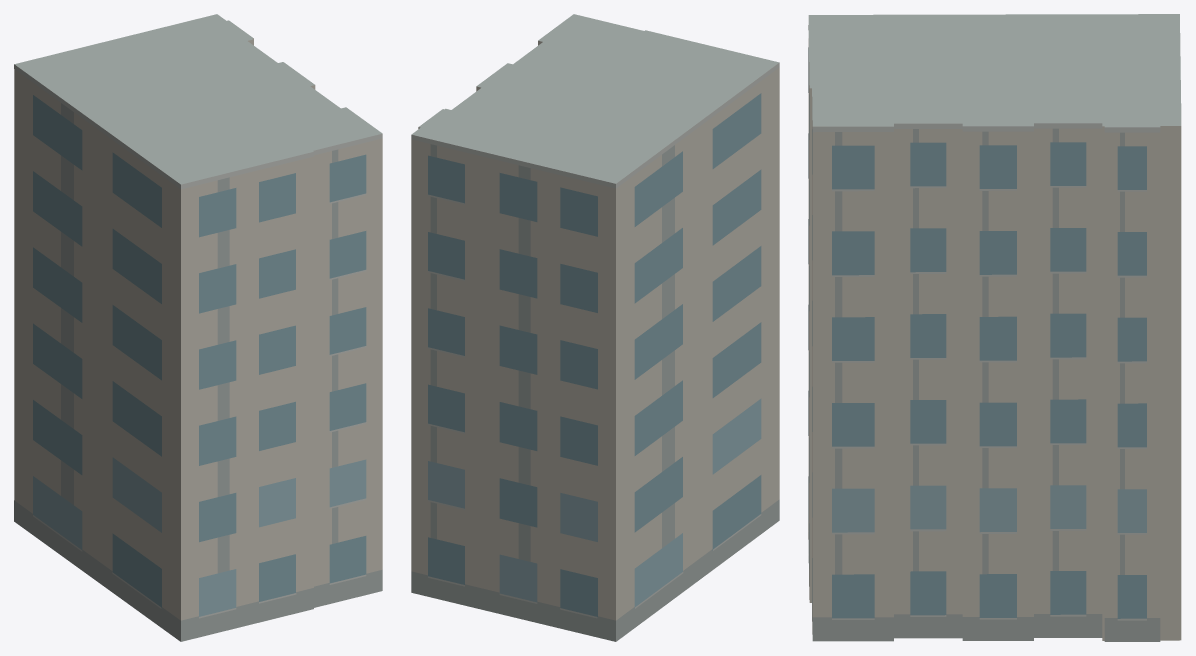
File: survey-upis-32502825.glb
3 views of the same model, side by side, from view 1: azimuth 30°, elevation 25°; view 2: azimuth 150°, elevation 25°; view 3: azimuth 270°, elevation 25° (orthographic). The views are drawn at different scales.
Parts seen in each view (by area): view 1: survey-upis-32502825.tmp; view 2: survey-upis-32502825.tmp; view 3: survey-upis-32502825.tmp.
Part boxes in pixels (x1=…): survey-upis-32502825.tmp: x1=14, y1=14, x2=382, y2=641; survey-upis-32502825.tmp: x1=411, y1=14, x2=779, y2=641; survey-upis-32502825.tmp: x1=808, y1=14, x2=1181, y2=641.
Size of the model in its own units: 11.01 by 23.3 by 15.32.
